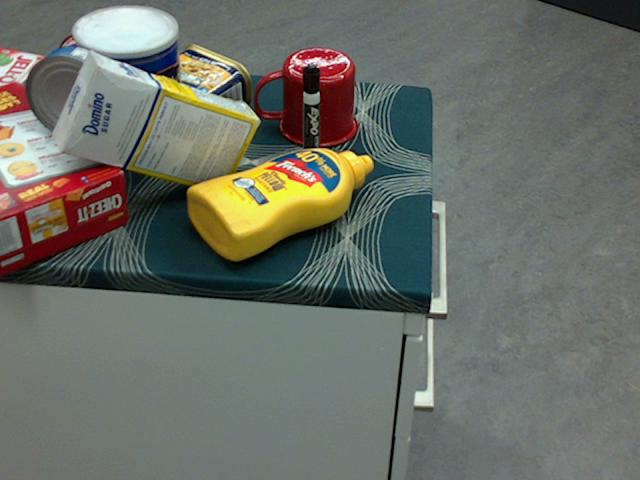cracker_box: (0, 83, 128, 273)
gelatin_box: (0, 48, 54, 111)
large_marker: (300, 63, 320, 170)
master_chef_can: (74, 7, 183, 172)
mug: (253, 48, 356, 148)
mustard_bottle: (186, 147, 373, 260)
potted_meat_can: (138, 44, 251, 133)
sugar_box: (53, 54, 260, 192)
tomato_soup_can: (46, 30, 119, 126)
tuna_fish_can: (25, 45, 121, 139)
